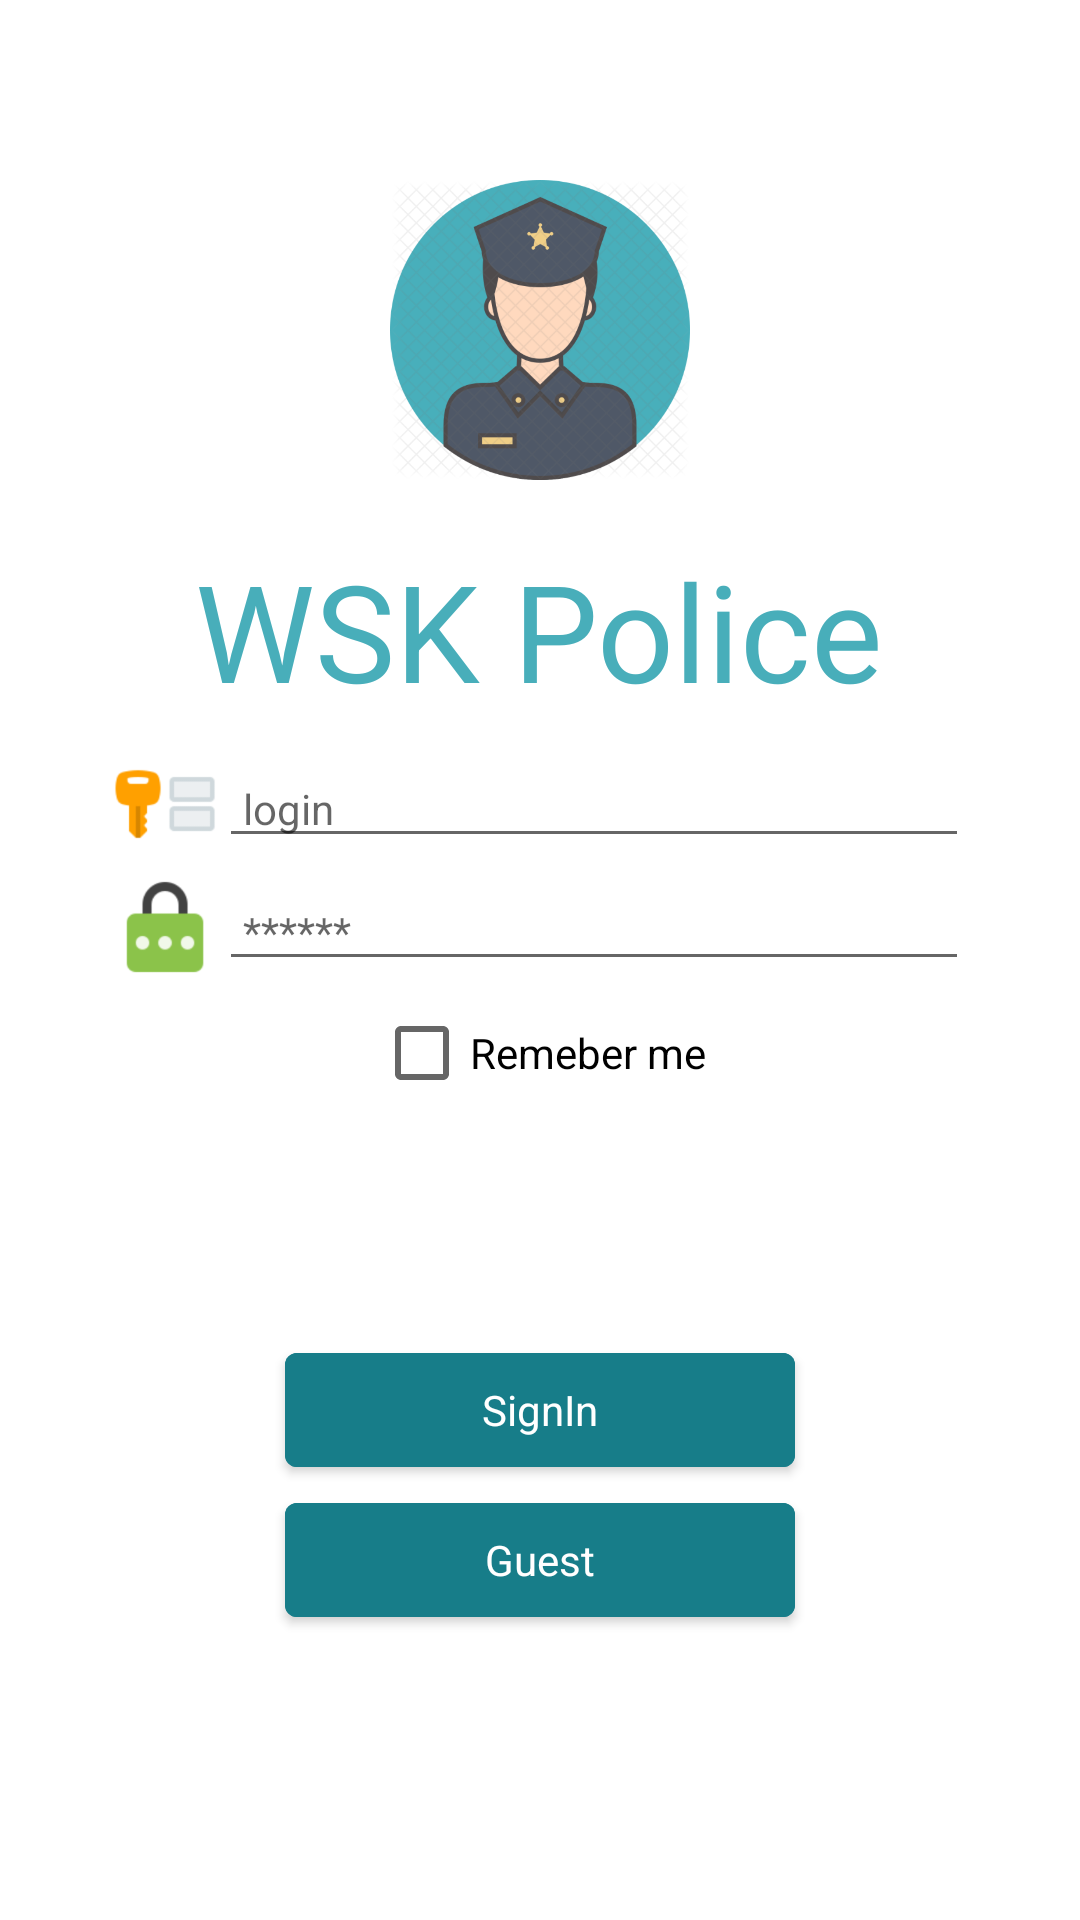

Point at icon controls on the screen. Image size 1080×1920, points as (x,y).
keyy: (165,804)
policeofficer: (540,330)
